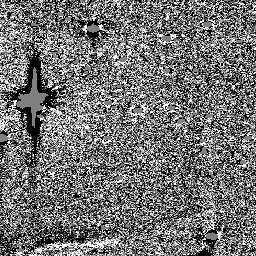LE: (28, 231, 107, 256)
